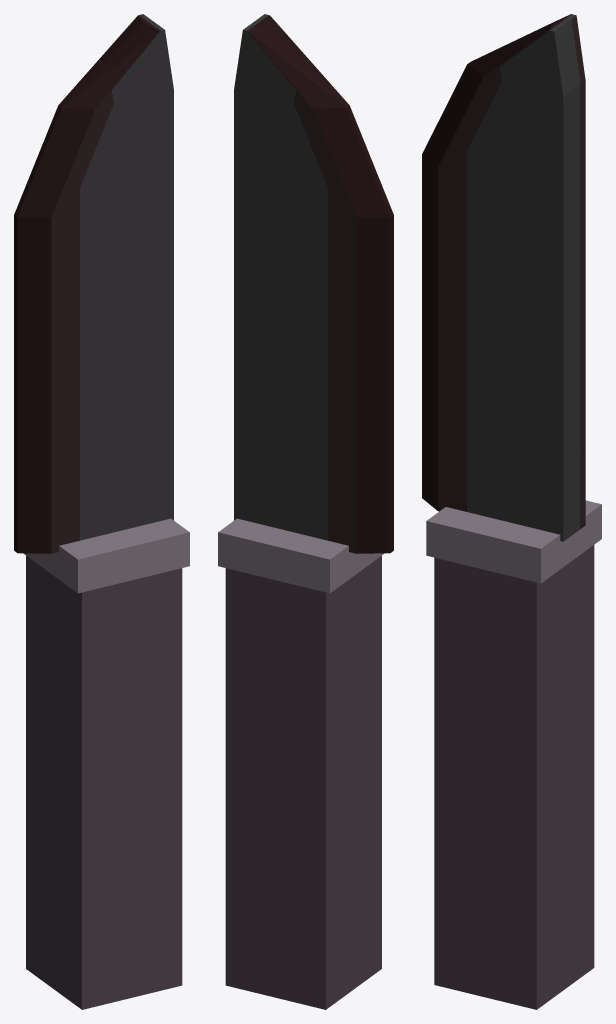
Rendered from netherite.obj.
3 renders of one model, left to right at view 1: azimuth 30°, elevation 25°; view 2: azimuth 150°, elevation 25°; view 3: azimuth 330°, elevation 25°, orthographic. The views are drawn at different scales.
Parts seen in each view (by area): view 1: blade, grip, bolster; view 2: blade, grip, bolster; view 3: blade, grip, bolster.
Part boxes in pixels (x1,y1,x2,y2): blade: (14, 14, 173, 553); grip: (26, 556, 182, 1009); bolster: (23, 518, 189, 593); blade: (234, 14, 393, 553); grip: (225, 556, 381, 1009); bolster: (218, 518, 384, 593); blade: (422, 14, 585, 541); grip: (434, 545, 594, 1009); bolster: (426, 500, 601, 583).
Size of the model in its own units: 0.1562 by 0.9563 by 0.1094.
